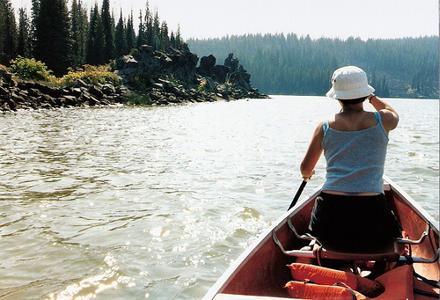person: (301, 66, 401, 256)
